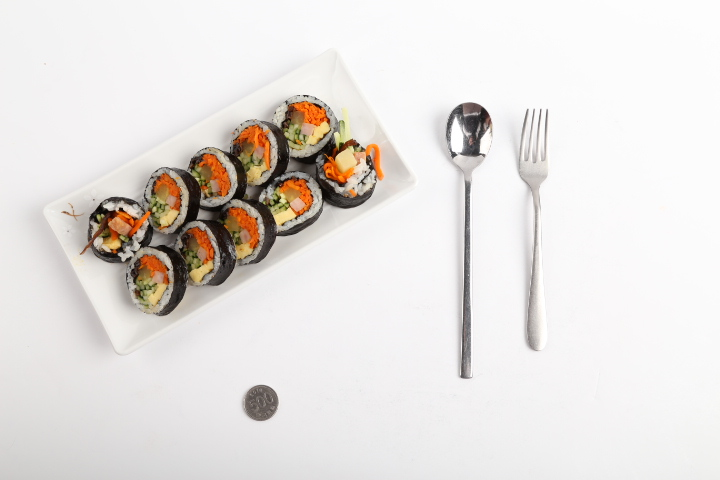dish: (42, 50, 415, 355)
ref_coin: (244, 384, 279, 420)
ref_fork: (518, 108, 548, 190)
ref_spoon: (446, 101, 493, 179)
김밥: (87, 94, 376, 316)
